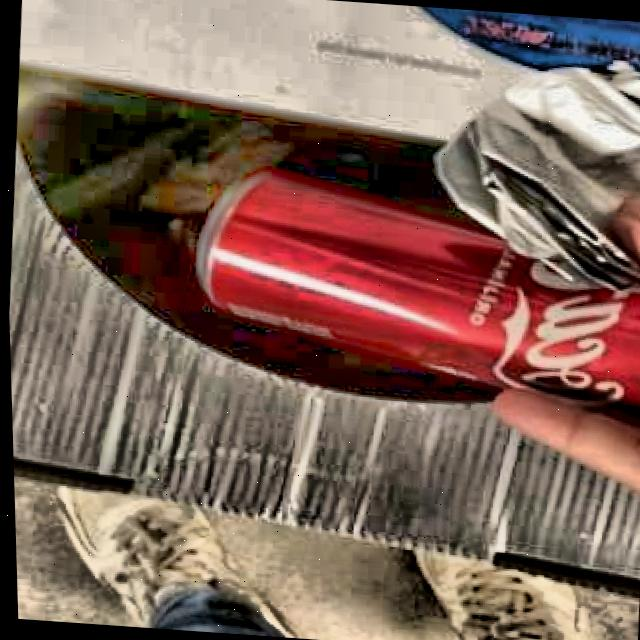metal: (196, 173, 640, 423)
